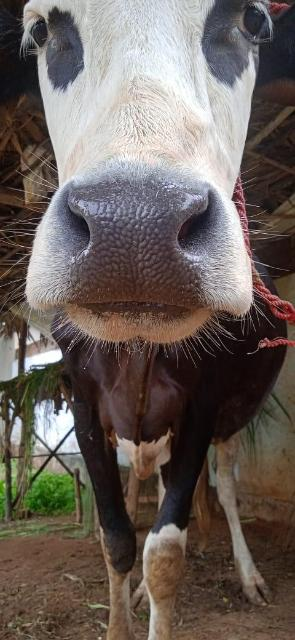Muzzle: (64, 188, 202, 306)
